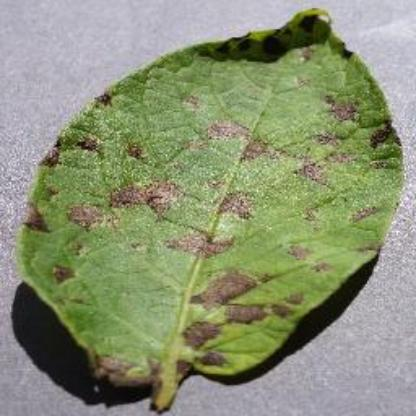Early-Blight: (20, 5, 406, 410)
